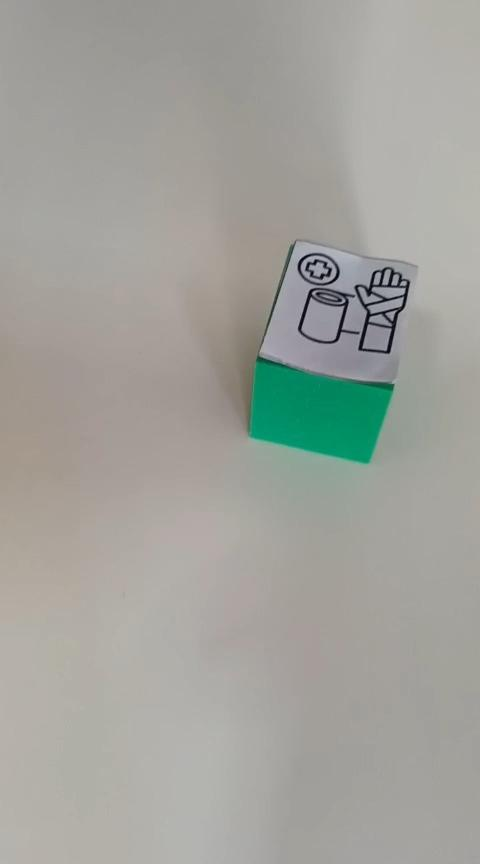Bandages: (247, 237, 418, 464)
